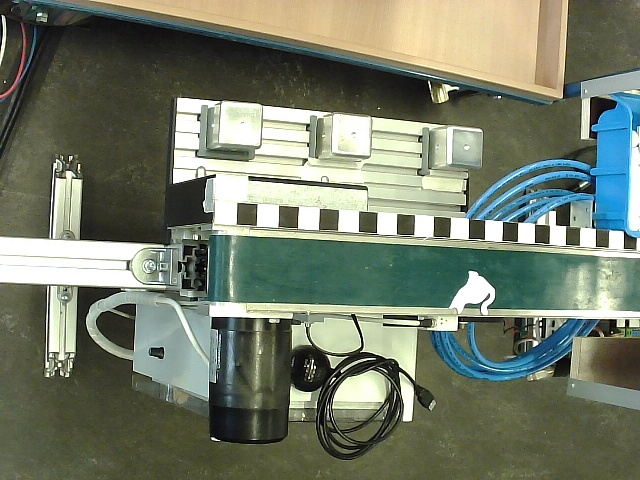cat: (448, 270, 497, 316)
